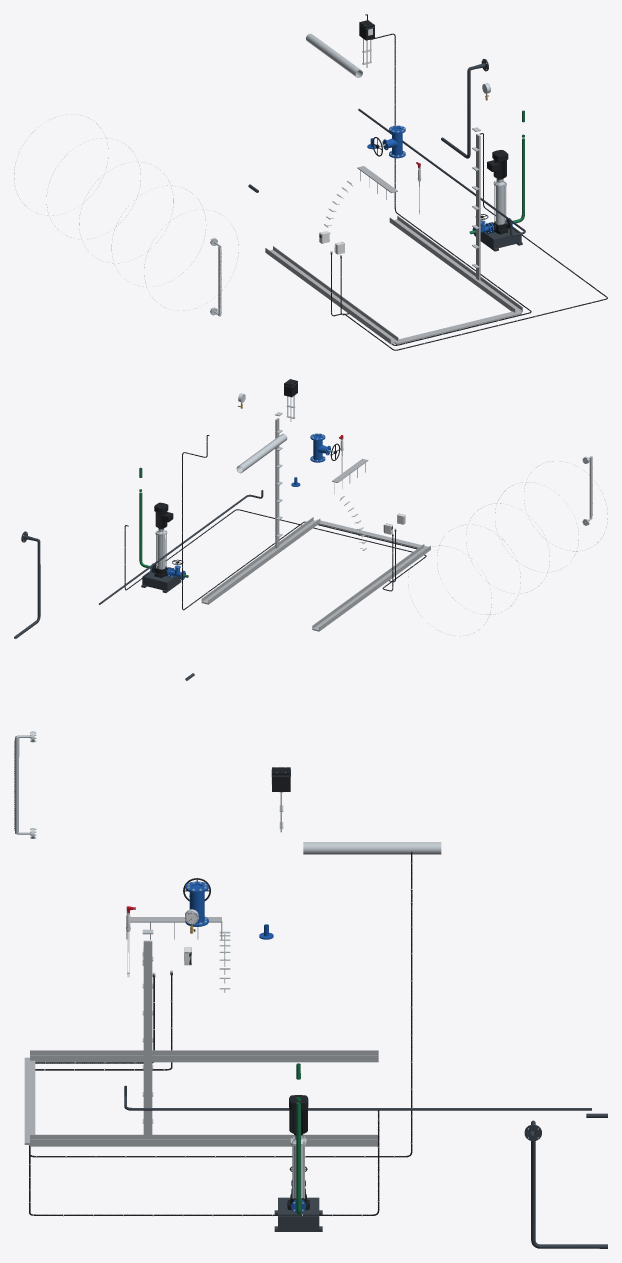
File: s4000-2-b_kplYSX.glb
3 renders of one model, top to bottom at view 1: azimuth 30°, elevation 25°; view 2: azimuth 150°, elevation 25°; view 3: azimuth 270°, elevation 25°, orthographic. The views are drawn at different scales.
Visible parts, largest first — view 1: cables / zinc, mod_eco_drive_cable / black, wiring_pump_2 / black, deaerator_details / steel, steam_delivery / steel, pump_branch_1 / dark, bottom_to_bdv / dark, tds_common / dark, steam_manual / blue, pump_1 CAD solid 15; view 2: cables / zinc, wiring_pump_2 / black, mod_eco_drive_cable / black, deaerator_details / steel, bottom_to_bdv / dark, pump_branch_1 / dark, steam_delivery / steel, tds_common / dark, steam_manual / blue; view 3: cables / zinc, steam_delivery / steel, mod_eco_drive_cable / black, wiring_pump_2 / black, tds_common / dark, pump_branch_1 / dark, bottom_to_bdv / dark.
Part boxes in pixels (x1,y1,x2,y2): cables / zinc: (265, 134, 522, 344); mod_eco_drive_cable / black: (340, 14, 531, 345); wiring_pump_2 / black: (331, 133, 607, 350); deaerator_details / steel: (14, 114, 238, 316); steam_delivery / steel: (306, 33, 362, 77); pump_branch_1 / dark: (480, 226, 522, 251); bottom_to_bdv / dark: (441, 59, 488, 158); tds_common / dark: (358, 108, 525, 236); steam_manual / blue: (382, 125, 405, 158); pump_1 CAD solid 15: (487, 150, 508, 178); cables / zinc: (201, 418, 430, 631); wiring_pump_2 / black: (124, 509, 426, 591); mod_eco_drive_cable / black: (182, 435, 417, 610); deaerator_details / steel: (408, 456, 607, 635); bottom_to_bdv / dark: (14, 531, 40, 638); pump_branch_1 / dark: (141, 571, 181, 592); steam_delivery / steel: (236, 433, 287, 473); tds_common / dark: (99, 490, 263, 604); steam_manual / blue: (310, 433, 330, 462); cables / zinc: (24, 917, 378, 1146); steam_delivery / steel: (303, 842, 441, 854); mod_eco_drive_cable / black: (29, 851, 412, 1157); wiring_pump_2 / black: (29, 975, 379, 1215); tds_common / dark: (124, 1085, 591, 1110); pump_branch_1 / dark: (274, 1197, 322, 1231); bottom_to_bdv / dark: (524, 1120, 607, 1248).
Size of the model in its own units: 7.52 by 3.7 by 5.57.
